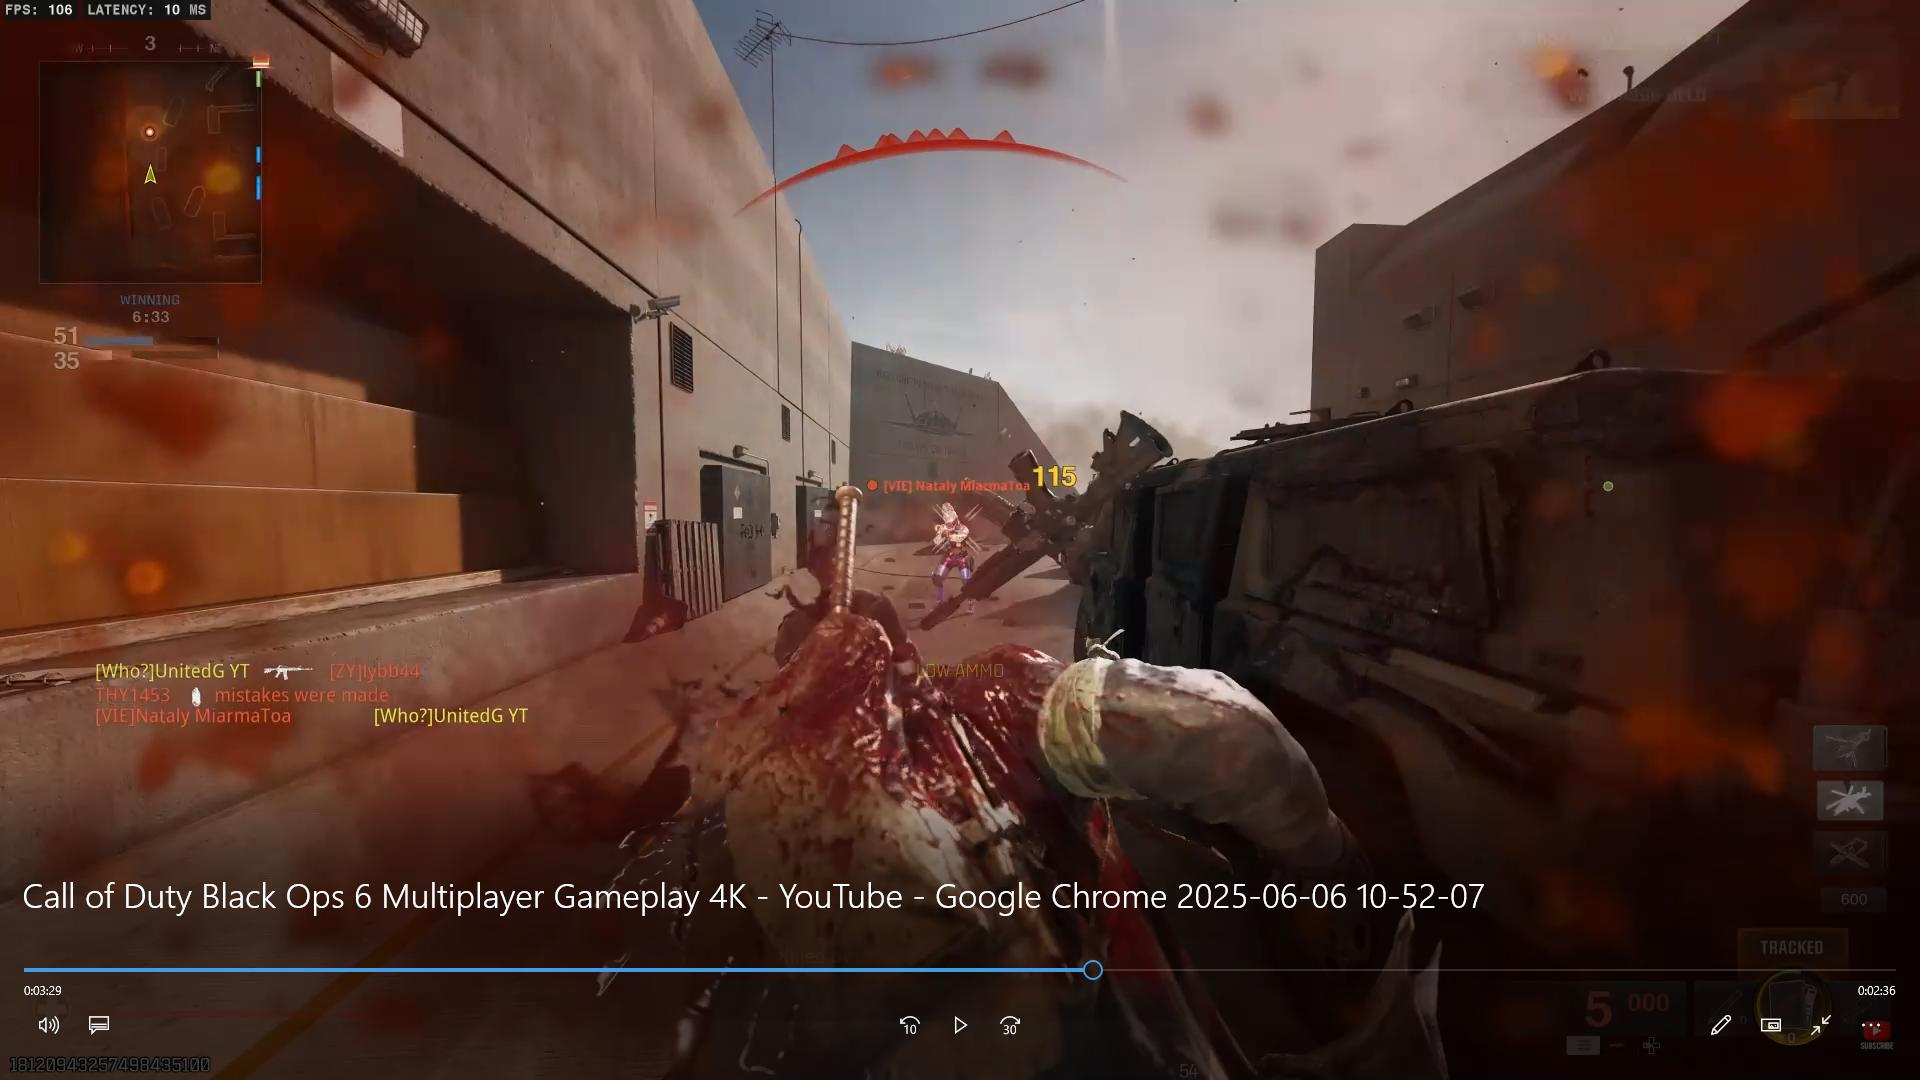Enemy: (860, 450, 1044, 617)
